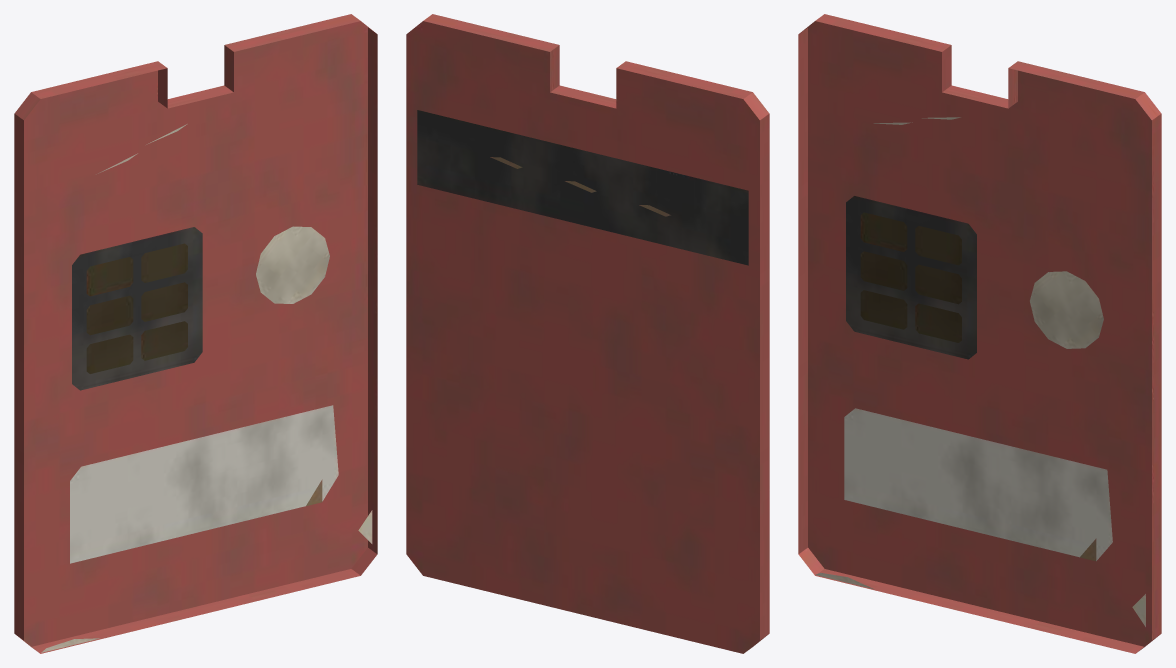
Rendered from P28_colored_key_cards_v1.glb.
The picture shows the model from 3 angles, left to right: view 1: azimuth 30°, elevation 25°; view 2: azimuth 150°, elevation 25°; view 3: azimuth 330°, elevation 25°; orthographic projection.
Parts seen in each view (by area): view 1: Key_card_body; view 2: Key_card_body; view 3: Key_card_body.
Part boxes in pixels (bbox=[...]): Key_card_body: bbox=[14, 14, 377, 653]; Key_card_body: bbox=[406, 14, 769, 653]; Key_card_body: bbox=[798, 14, 1161, 653].
Bounding box in the file's own units: 0.0667 × 0.1 × 0.00333.
6 materials, 6 textured.
